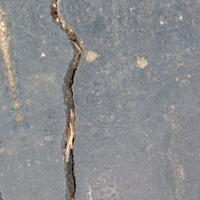crack: (41, 0, 125, 199)
